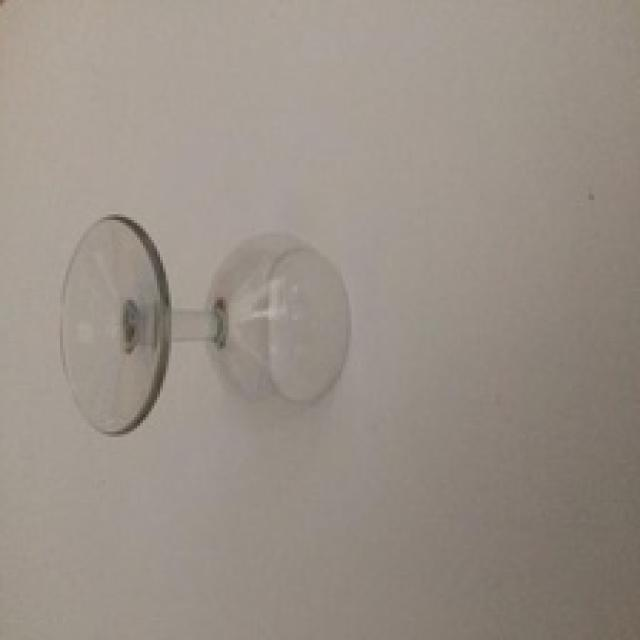Glass: (64, 215, 353, 440)
